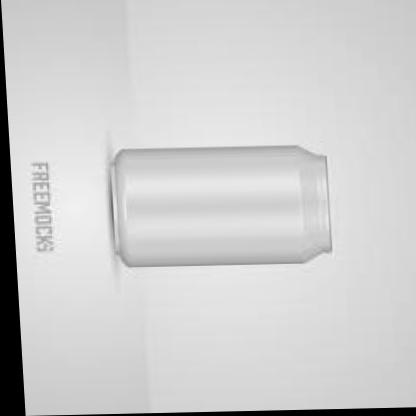trash: (111, 146, 330, 265)
